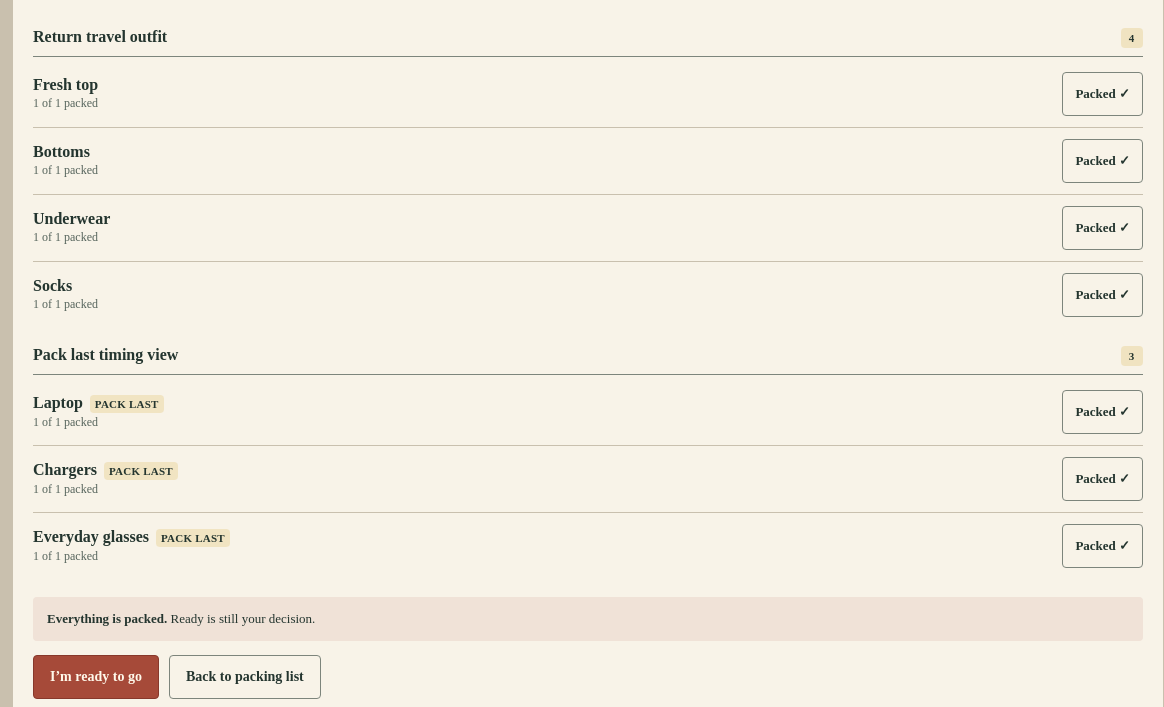
Scenario: marking Ready and not ready › stays as it was, with the Error chip, when marking Ready fails
(page scrolled)
Click the button "I’m ready to go" at (96, 677), box [33,655,159,699]
(page scrolled)
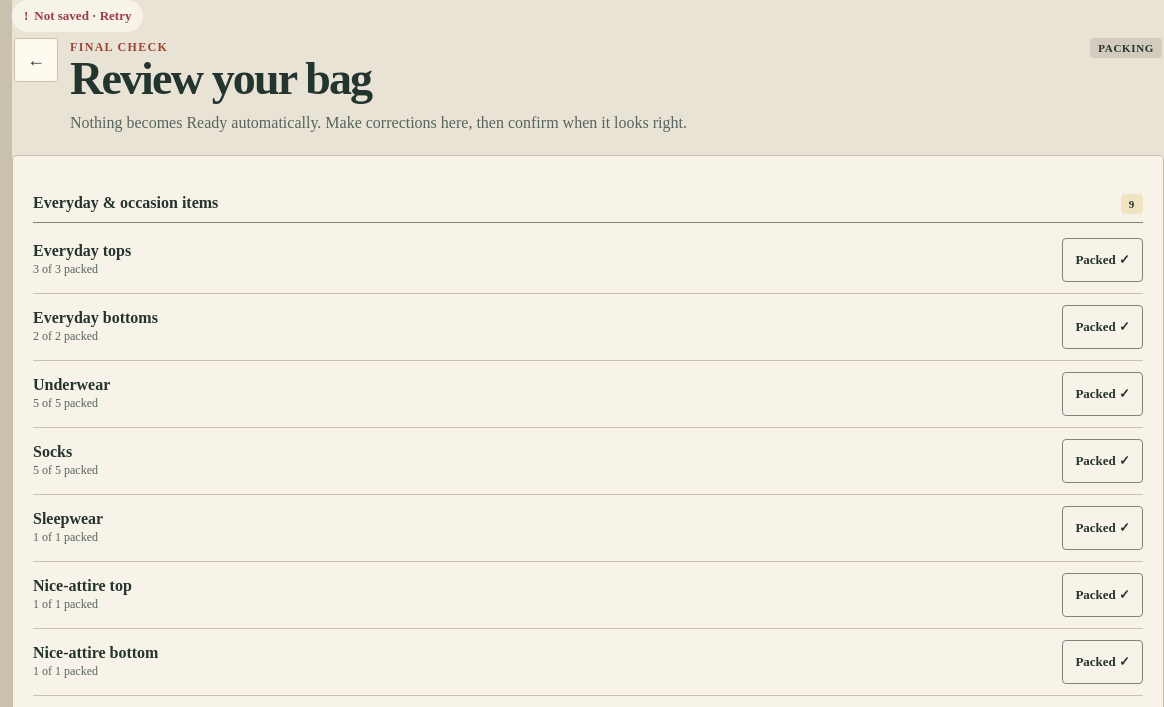
Expected: the text "Packing" is shown, [1090,38,1162,58]
Expected: the button "! Not saved · Retry" is shown, [12,0,144,32]
